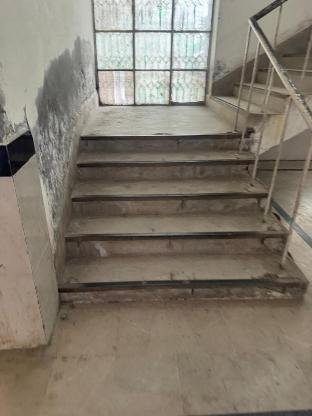stair: (59, 113, 310, 315)
